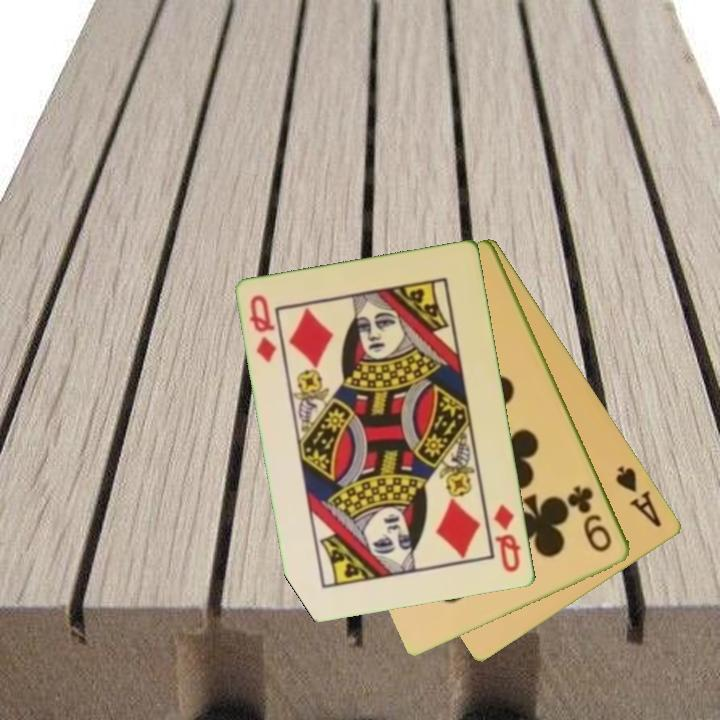9c: (566, 482, 616, 556)
As: (612, 462, 665, 531)
Qd: (490, 501, 524, 576), (247, 291, 280, 366)
